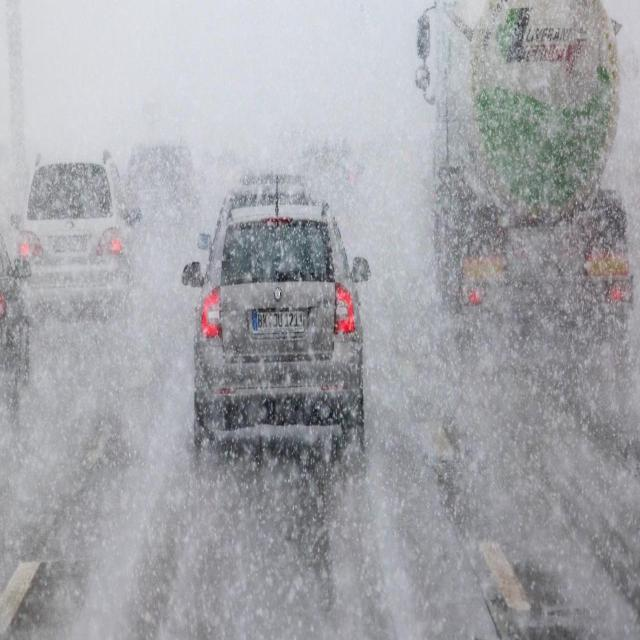Car: (181, 192, 373, 474), (8, 148, 143, 328)
Truck: (413, 0, 635, 351)
